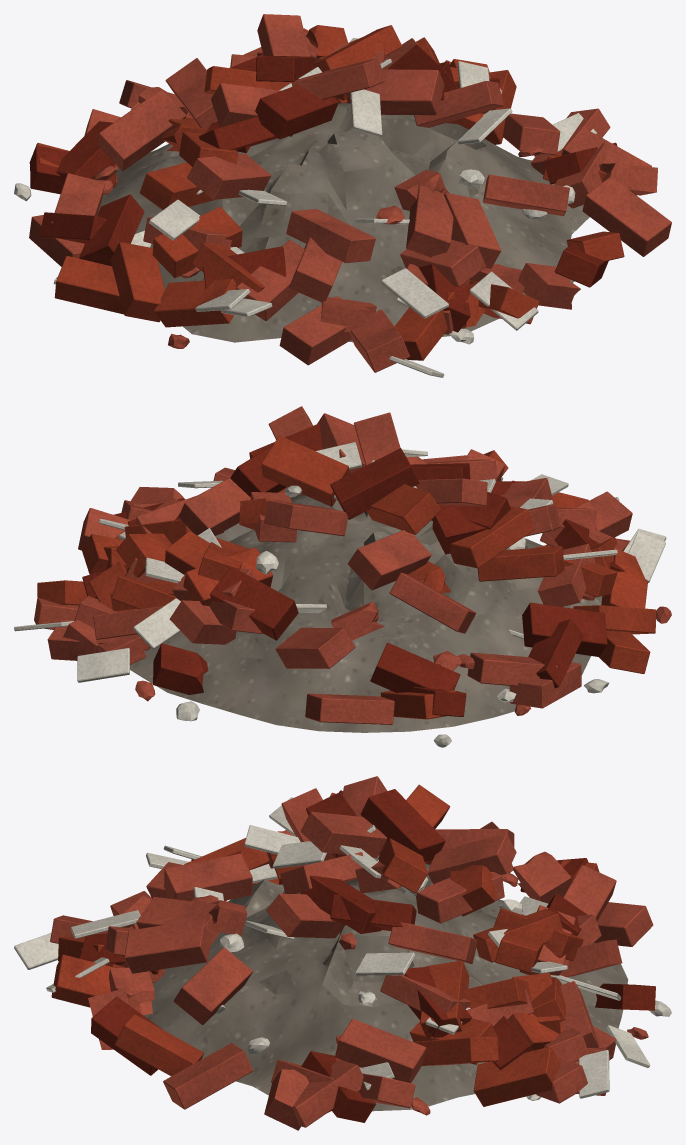
The model's file is loose-brick-pile.glb.
3 views of the same model, one above another, from view 1: azimuth 30°, elevation 25°; view 2: azimuth 150°, elevation 25°; view 3: azimuth 270°, elevation 25° (orthographic). The views are drawn at different scales.
Parts seen in each view (by area): view 1: Loose_Brick_Pile; view 2: Loose_Brick_Pile; view 3: Loose_Brick_Pile.
Part boxes in pixels (<box>): Loose_Brick_Pile: <box>14,14,671,377</box>; Loose_Brick_Pile: <box>14,406,671,747</box>; Loose_Brick_Pile: <box>14,776,671,1130</box>.
Bounding box in the file's own units: 1.71 × 0.5551 × 1.75.
5 materials, 5 textured.
